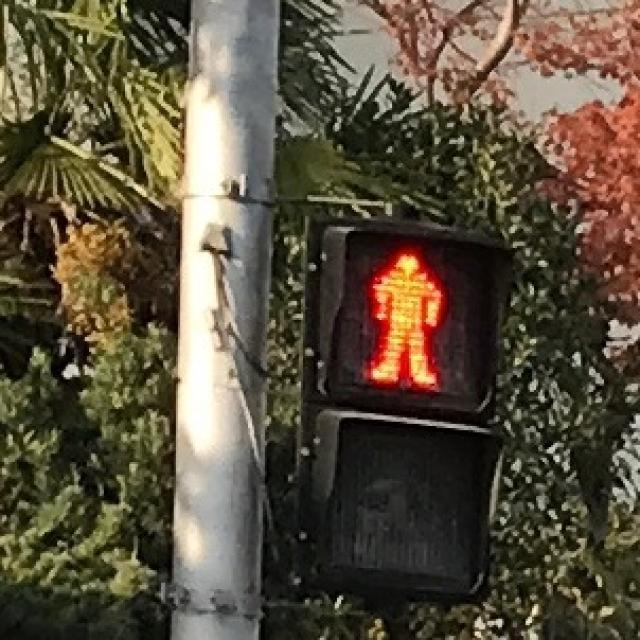red-crossing: (340, 224, 472, 398)
